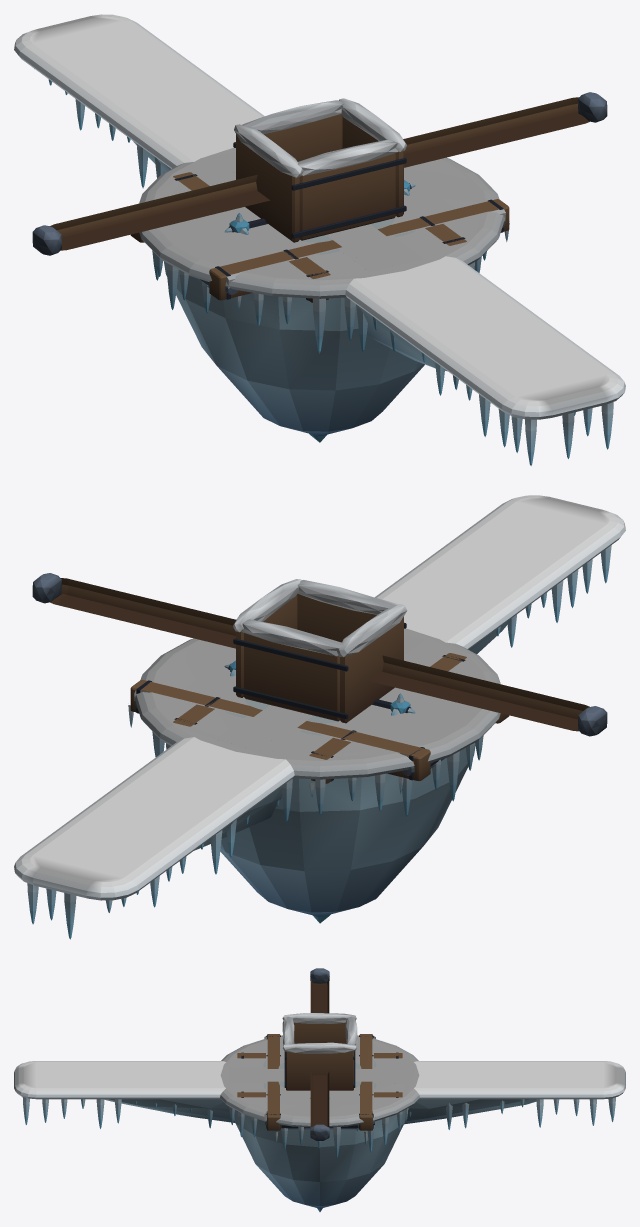
Rendered from glacier-3-CAlBVUI7.glb.
The picture shows the model from 3 angles, top to bottom: view 1: azimuth 30°, elevation 25°; view 2: azimuth 150°, elevation 25°; view 3: azimuth 270°, elevation 25°; orthographic projection. The views are drawn at different scales.
Parts seen in each view (by area): view 1: block_5x2x40#0, disc_14x1.5#0, hopper_3.5x3#0, mount_12.2#0, block_10x2x8#0, belt_13x1.5x7x1#0, beam_2x1.5x10#0, belt_7x1.5x11x0#0, beam_2.5x1.5x12#0; view 2: block_5x2x40#0, disc_14x1.5#0, hopper_3.5x3#0, mount_12.2#0, block_10x2x8#0, belt_13x1.5x7x1#0, beam_2x1.5x10#0, belt_7x1.5x11x0#0, beam_2.5x1.5x12#0; view 3: block_5x2x40#0, disc_14x1.5#0, hopper_3.5x3#0, belt_13x1.5x7x1#0, mount_12.2#0, block_10x2x8#0, beam_2x1.5x10#0, beam_2.5x1.5x12#0, belt_7x1.5x11x0#0.
Part boxes in pixels (<box>): block_5x2x40#0: <box>14,14,625,465</box>; disc_14x1.5#0: <box>139,147,504,435</box>; hopper_3.5x3#0: <box>233,98,406,242</box>; mount_12.2#0: <box>32,92,607,255</box>; block_10x2x8#0: <box>197,171,455,263</box>; belt_13x1.5x7x1#0: <box>130,199,509,309</box>; beam_2x1.5x10#0: <box>233,166,406,261</box>; belt_7x1.5x11x0#0: <box>173,172,466,302</box>; beam_2.5x1.5x12#0: <box>215,154,424,272</box>; block_5x2x40#0: <box>14,495,625,939</box>; disc_14x1.5#0: <box>135,628,500,916</box>; hopper_3.5x3#0: <box>233,579,407,723</box>; mount_12.2#0: <box>32,573,607,736</box>; block_10x2x8#0: <box>184,652,442,744</box>; belt_13x1.5x7x1#0: <box>128,679,509,793</box>; beam_2x1.5x10#0: <box>233,647,406,742</box>; belt_7x1.5x11x0#0: <box>173,653,466,797</box>; beam_2.5x1.5x12#0: <box>215,634,424,753</box>; block_5x2x40#0: <box>14,1061,625,1129</box>; disc_14x1.5#0: <box>220,1035,419,1208</box>; hopper_3.5x3#0: <box>282,1013,357,1090</box>; belt_13x1.5x7x1#0: <box>264,1034,375,1144</box>; mount_12.2#0: <box>310,968,329,1140</box>; block_10x2x8#0: <box>266,1046,373,1104</box>; beam_2x1.5x10#0: <box>244,1069,395,1081</box>; beam_2.5x1.5x12#0: <box>229,1067,410,1083</box>; belt_7x1.5x11x0#0: <box>237,1052,408,1121</box>.
Bounding box in the file's own units: 25.3 × 13.39 × 40.36.
